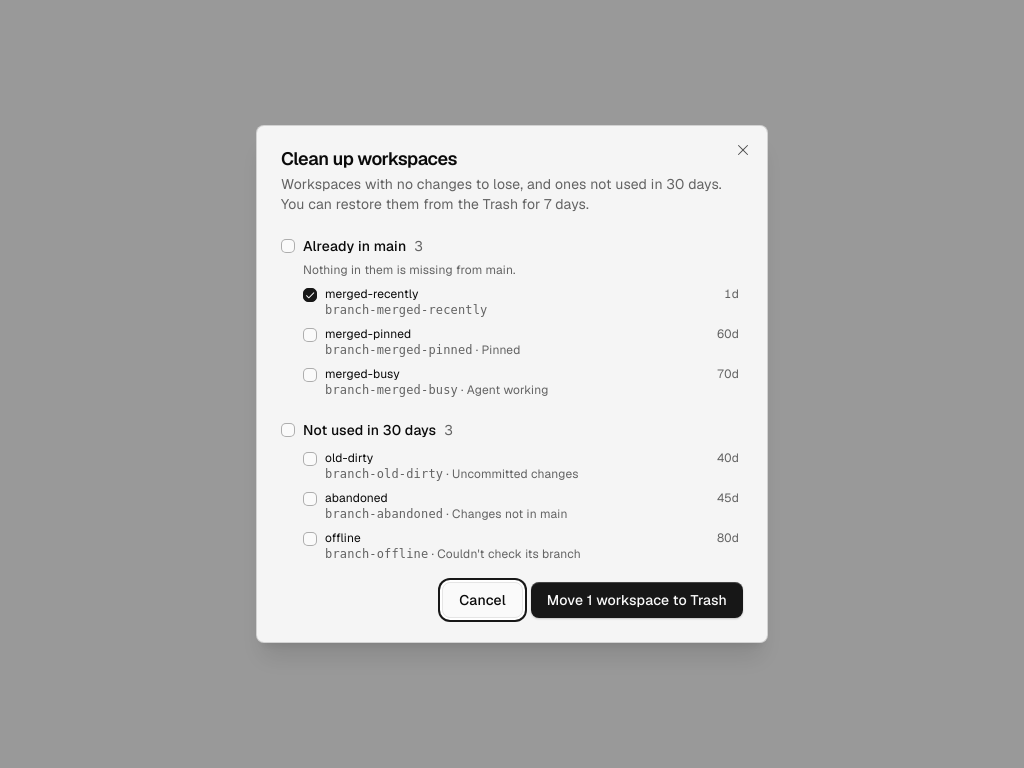
Test: WorkspaceCleanupDialog › checks and unchecks a whole group from its header
The width and height of the screenshot is (1024, 768).
Click the checkbox labelled "Already in main 3" at (288, 246), box [281,239,295,253]
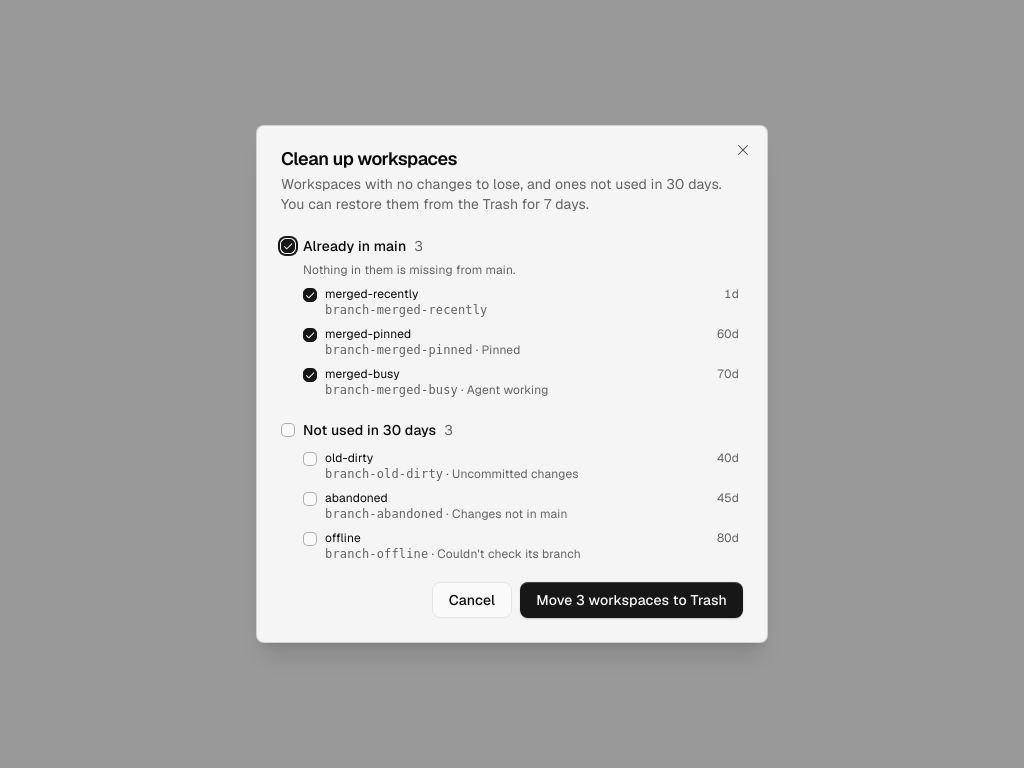
Expected: the checkbox labelled "merged-busy branch-merged-busy · Agent working 70d" is checked, [303,368,317,382]
Click the checkbox labelled "Already in main 3" at (288, 246), box [281,239,295,253]
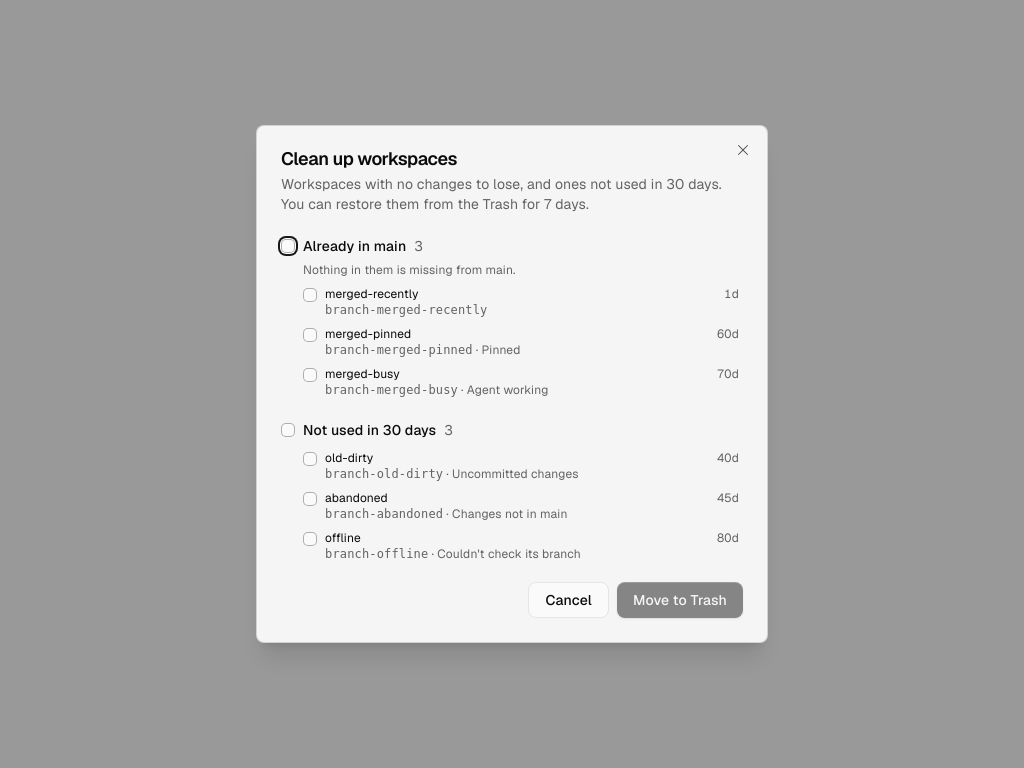
Expected: the button "Move to Trash" is disabled, [617,582,743,618]
